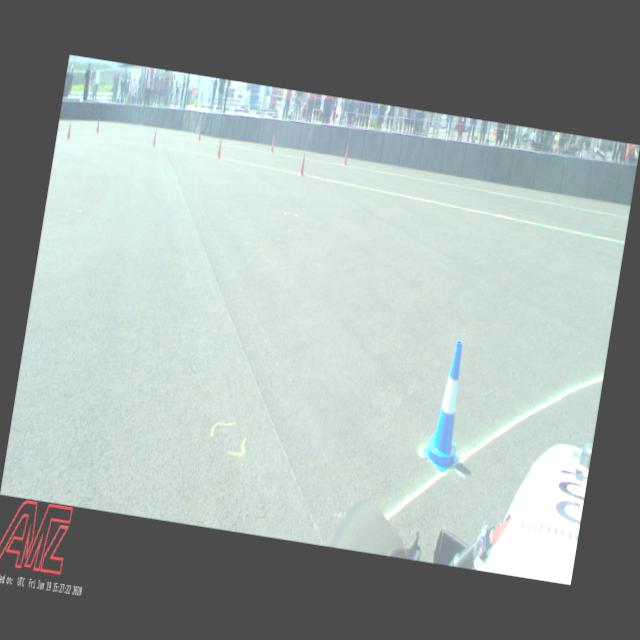blue_cone: (420, 338, 477, 475)
unknown_cone: (298, 152, 308, 176), (215, 138, 224, 159), (342, 146, 351, 166), (269, 136, 277, 154), (151, 129, 159, 147), (66, 122, 74, 140), (196, 126, 204, 142), (95, 118, 101, 134)
